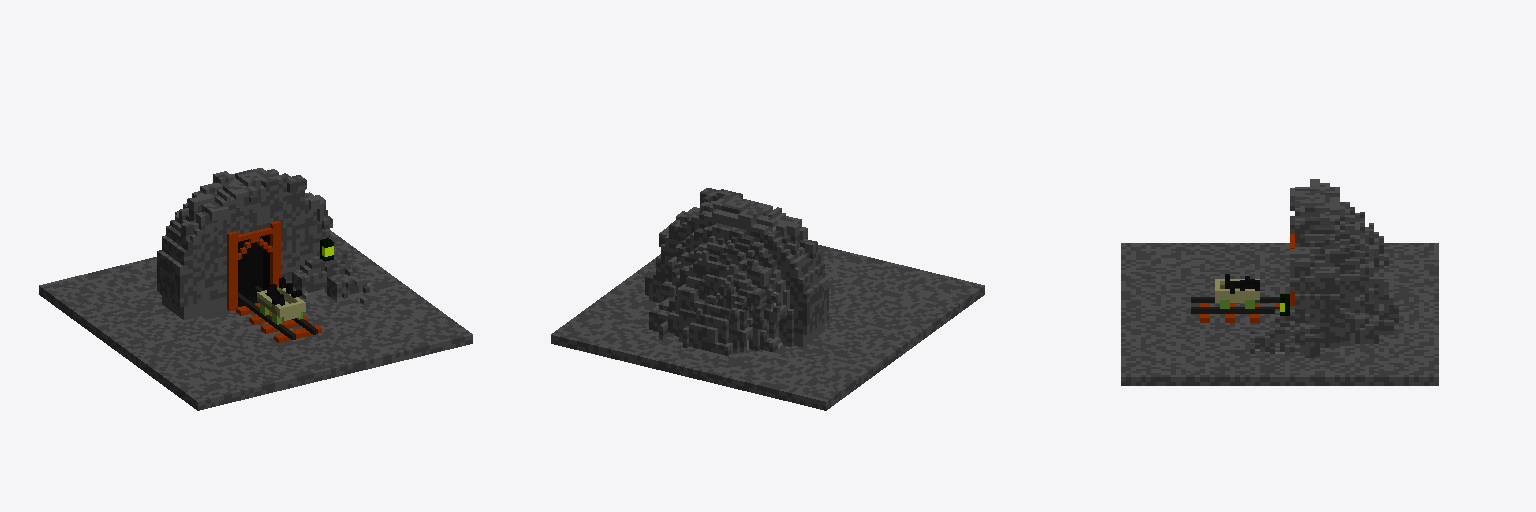
3 renders of one model, left to right at view 1: azimuth 30°, elevation 25°; view 2: azimuth 150°, elevation 25°; view 3: azimuth 270°, elevation 25°, orthographic.
Visible parts, largest first — view 1: mine; view 2: mine; view 3: mine.
Boxes of the visible parts, box(x1,y1,x2,y2) form: mine: box(39, 168, 472, 410); mine: box(551, 188, 984, 410); mine: box(1121, 179, 1438, 385).
Bounding box in the file's own units: 64 × 28 × 64.
1 materials, 1 textured.